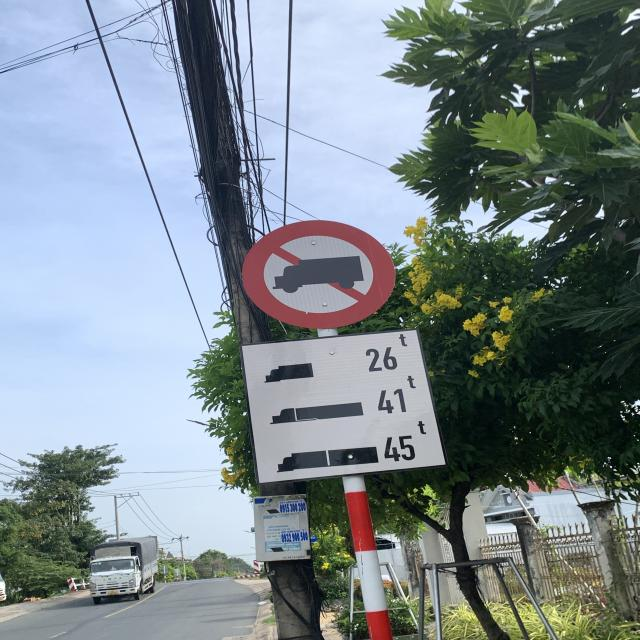Cam_Xe_Tai: (241, 218, 400, 328)
